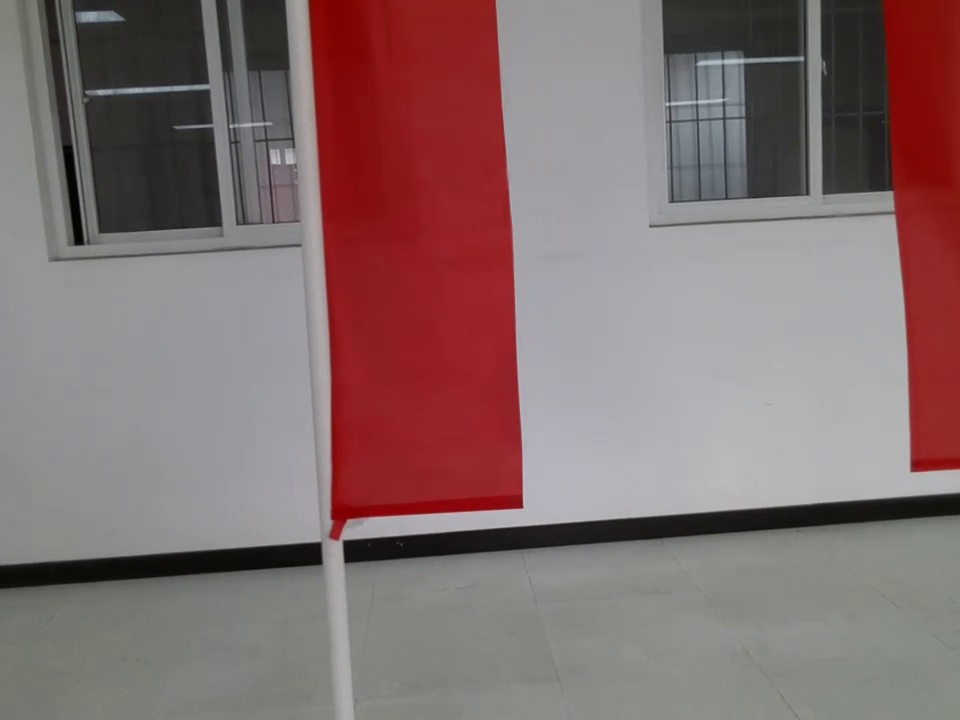qi: (284, 2, 531, 553), (879, 3, 960, 475)
